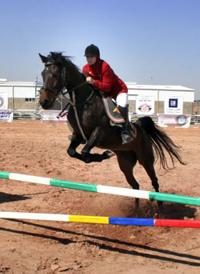person: (82, 42, 136, 147)
